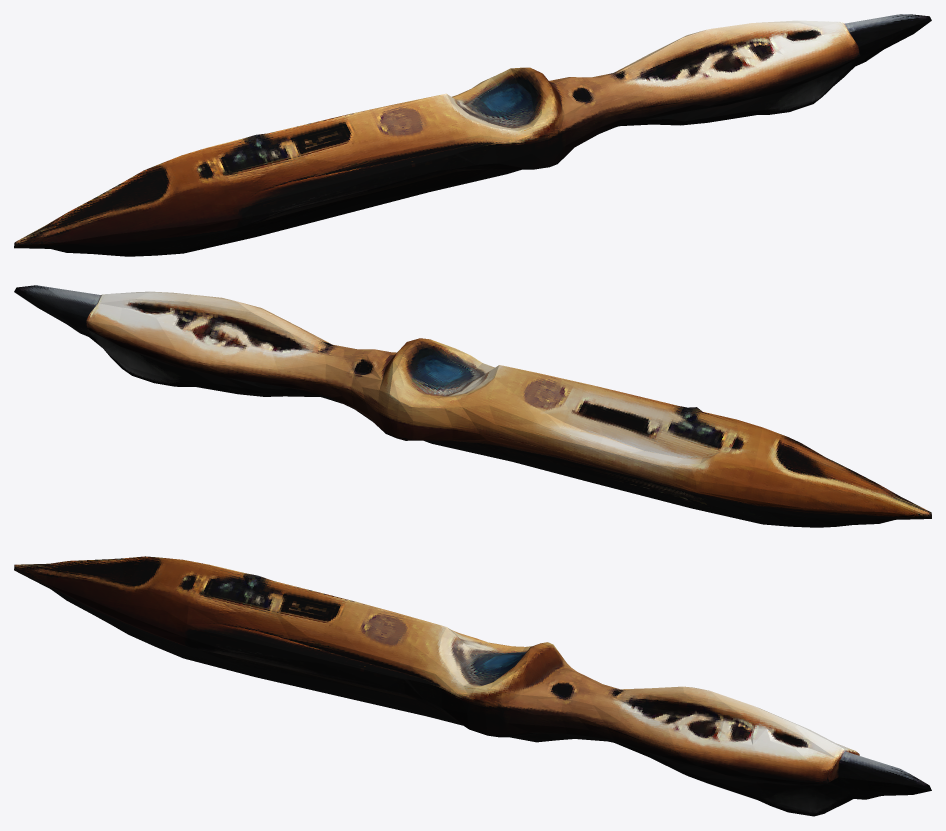
File: wooden-crochet-hook-futuristic.jpeg.glb
3 views of the same model, one above another, from view 1: azimuth 30°, elevation 25°; view 2: azimuth 150°, elevation 25°; view 3: azimuth 330°, elevation 25° (orthographic).
Parts seen in each view (by area): view 1: world; view 2: world; view 3: world.
Boxes of the visible parts, box(x1,y1,x2,y2) form: world: box(14, 14, 931, 256); world: box(14, 285, 931, 527); world: box(14, 556, 931, 816).
Bounding box in the file's own units: 1 × 0.1103 × 0.1235.
Materials: 1 (1 with a texture image).
